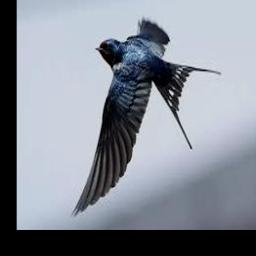Swallow: (70, 17, 221, 218)
